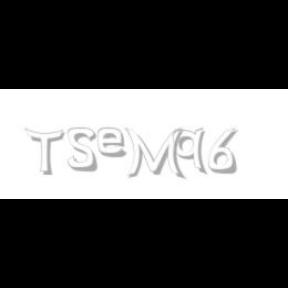6: (208, 128, 238, 176)
M: (124, 128, 184, 180)
S: (67, 128, 98, 172)
T: (24, 128, 64, 176)
e: (97, 128, 130, 158)
q: (173, 128, 209, 176)
